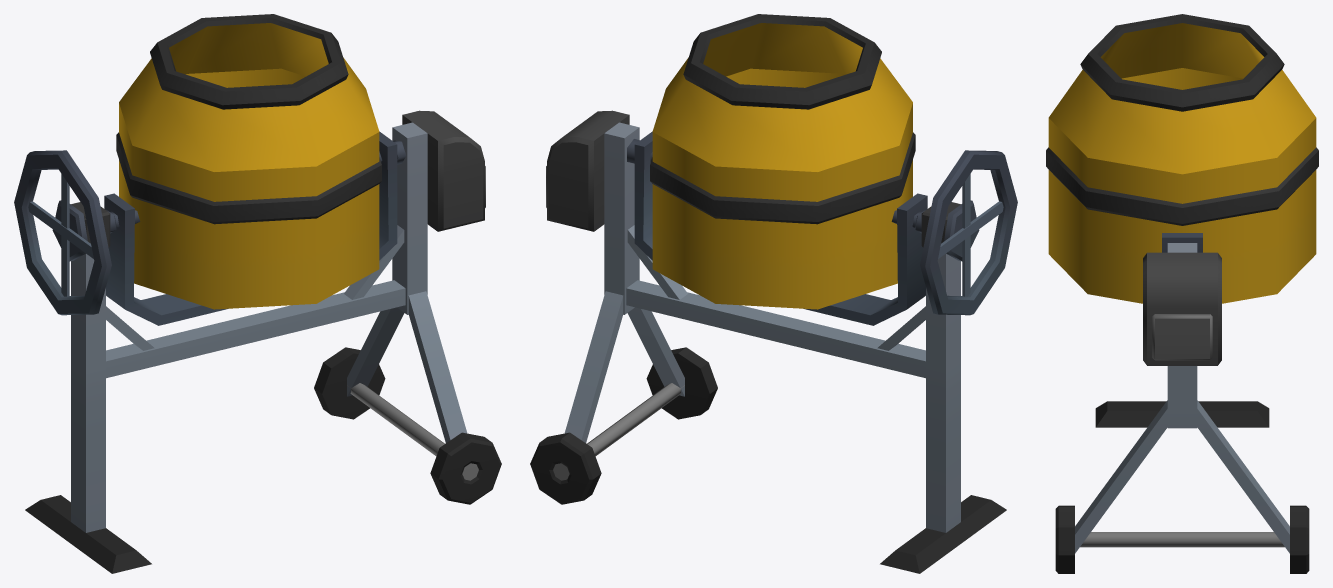
File: CementMixer_B.fbx
The picture shows the model from 3 angles, left to right: view 1: azimuth 30°, elevation 25°; view 2: azimuth 150°, elevation 25°; view 3: azimuth 270°, elevation 25°; orthographic projection.
Parts seen in each view (by area): view 1: Top2, CementMixer; view 2: Top2, CementMixer; view 3: Top2, CementMixer.
Boxes of the visible parts, x1,y1,x2,y2 form: Top2: (14, 14, 406, 325); CementMixer: (25, 110, 501, 573); Top2: (627, 14, 1017, 325); CementMixer: (530, 110, 1006, 573); Top2: (1046, 14, 1318, 303); CementMixer: (1055, 243, 1309, 573).
Bounding box in the file's own units: 66.75 × 68.54 × 38.37.
